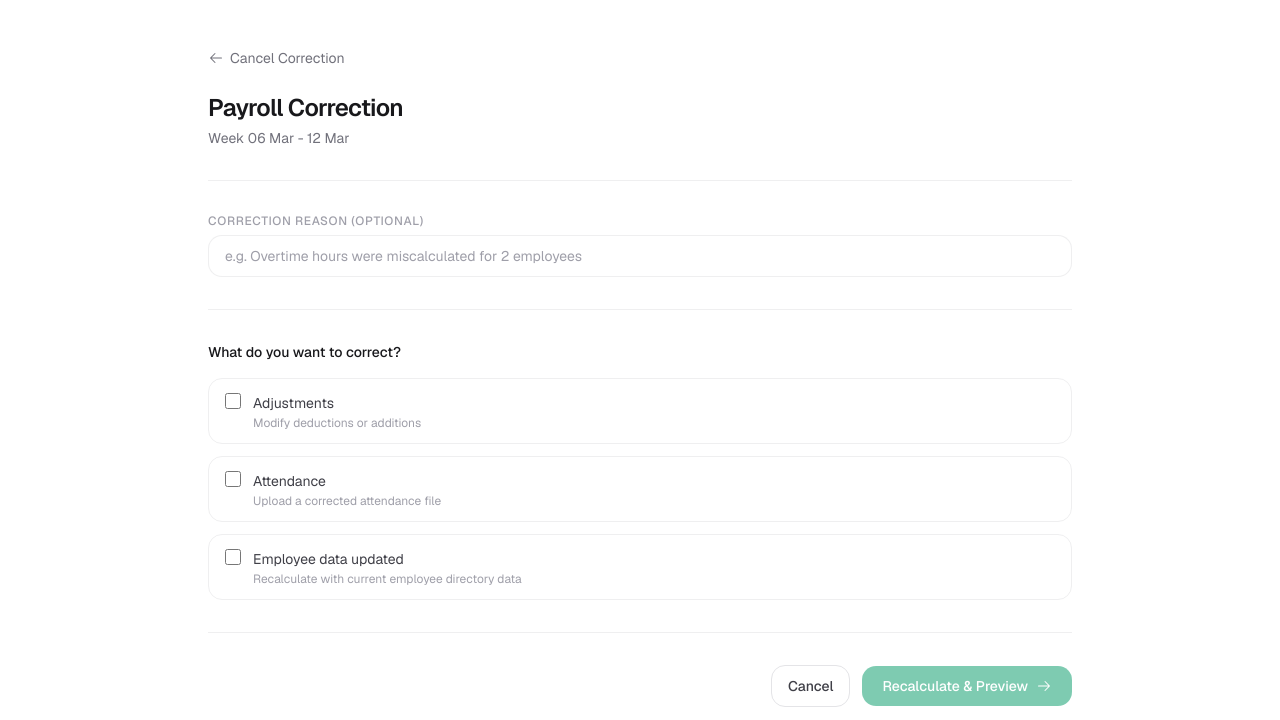
Test: CorrectionFlow — Attendance Re-upload Integration › renders interactive AttendanceDropzone when Attendance correction option is checked
The image size is (1280, 720).
Check: the text "Drag and drop your attendance file here" is not shown
Check the Attendance checkbox
Click the checkbox labelled "Attendance Upload a corrected attendance file".
click(233, 479)  # box [225, 471, 241, 487]
(page scrolled)
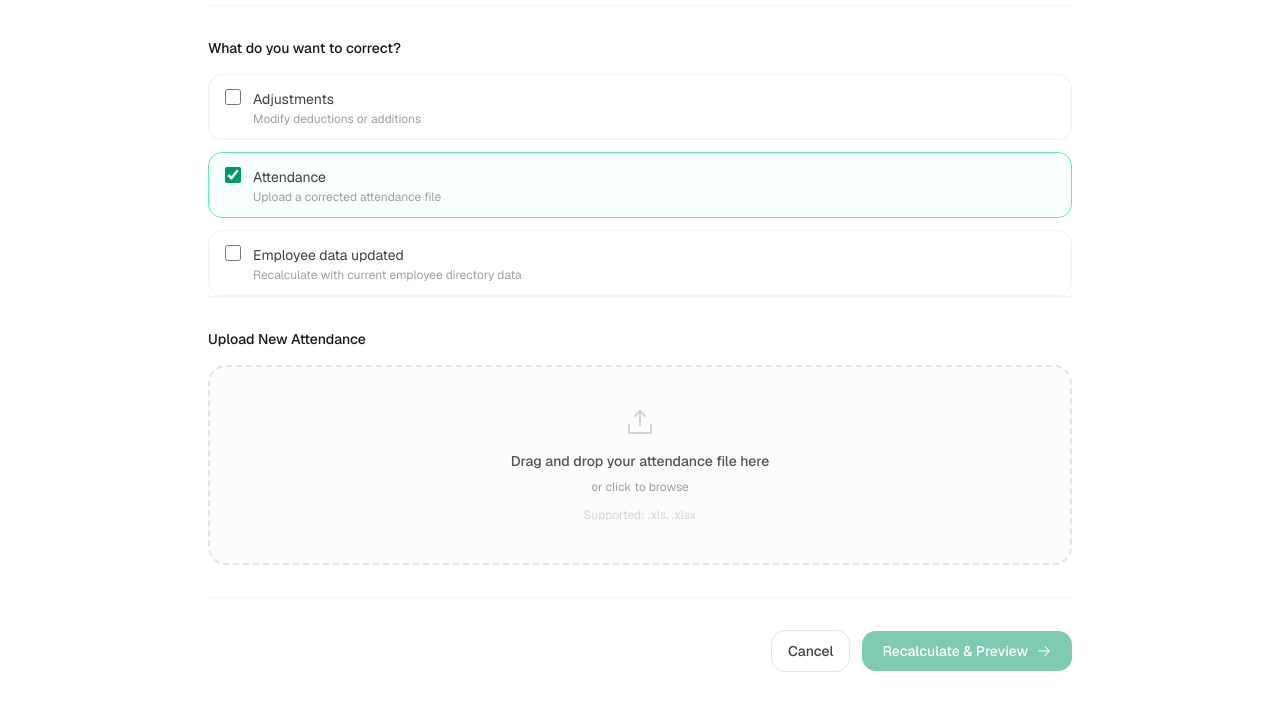
Check: the text "Drag and drop your attendance file here" is shown, box [511, 451, 769, 471]
